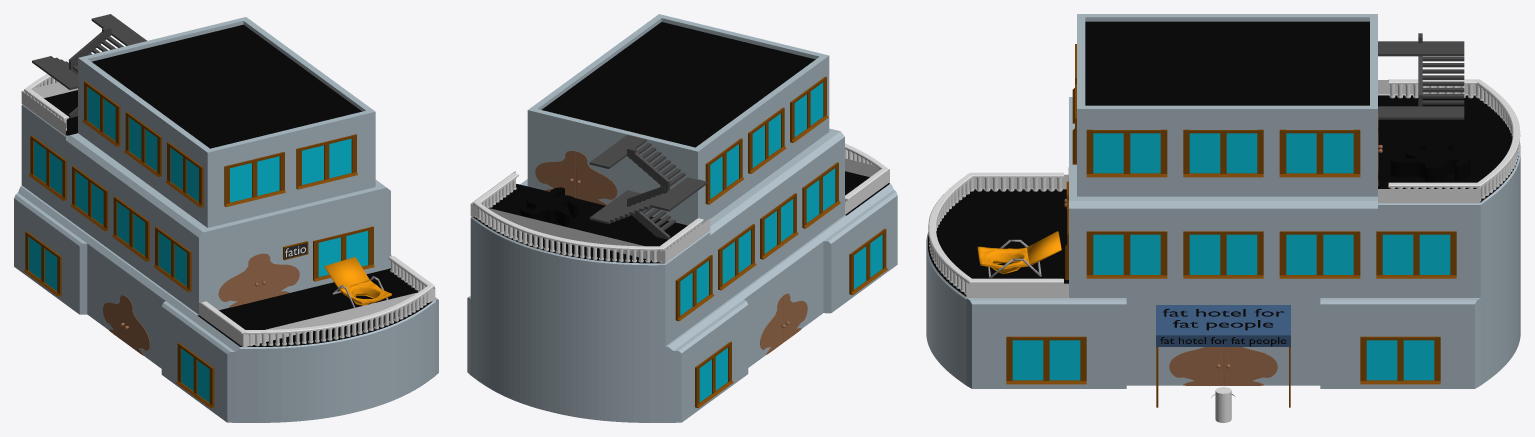
Rendered from newfathotel.glb.
3 views of the same model, side by side, from view 1: azimuth 30°, elevation 25°; view 2: azimuth 150°, elevation 25°; view 3: azimuth 270°, elevation 25° (orthographic). The views are drawn at different scales.
Visible parts, largest first — view 1: Cube, Cube.004, Cube.007, Cube.006, Plane.001, stairs.002-col, group294144946, Plane.003, Cube.008; view 2: Cube, Cube.004, stairs.002-col, Cube.008, Cube.006, Plane.002, Cube.009, Plane.003, Cube.007; view 3: Cube, Cube.004, Cube.001, stairs.002-col, Cube.006, Cube.007, Plane, Cube.008, Cube.009, group294144946, Text.001, Cylinder.
Part boxes in pixels (left/top/right/bottom): Cube: left=14, top=17, right=438, bottom=422; Cube.004: left=23, top=81, right=374, bottom=408; Cube.007: left=200, top=255, right=434, bottom=346; Cube.006: left=21, top=82, right=435, bottom=347; Plane.001: left=218, top=253, right=299, bottom=307; stairs.002-col: left=32, top=14, right=146, bottom=117; group294144946: left=324, top=257, right=391, bottom=307; Plane.003: left=103, top=295, right=149, bottom=355; Cube.008: left=24, top=74, right=69, bottom=130; Cube: left=467, top=14, right=897, bottom=422; Cube.004: left=675, top=76, right=887, bottom=408; stairs.002-col: left=589, top=135, right=707, bottom=239; Cube.008: left=473, top=173, right=703, bottom=262; Cube.006: left=470, top=158, right=889, bottom=263; Plane.002: left=535, top=151, right=617, bottom=205; Cube.009: left=520, top=187, right=578, bottom=227; Plane.003: left=760, top=293, right=807, bottom=354; Cube.007: left=845, top=143, right=888, bottom=201; Cube: left=926, top=14, right=1520, bottom=388; Cube.004: left=1006, top=44, right=1456, bottom=384; Cube.001: left=1156, top=305, right=1290, bottom=346; stairs.002-col: left=1378, top=33, right=1464, bottom=119; Cube.006: left=966, top=80, right=1480, bottom=297; Cube.007: left=928, top=172, right=1063, bottom=294; Plane: left=1169, top=347, right=1277, bottom=385; Cube.008: left=1388, top=79, right=1520, bottom=200; Cube.009: left=1390, top=141, right=1470, bottom=182; group294144946: left=977, top=231, right=1061, bottom=277; Text.001: left=1163, top=308, right=1283, bottom=330; Cylinder: left=1211, top=387, right=1235, bottom=422.
Size of what is drawn, in the model's own units: 23.06 by 19.18 by 36.96.
